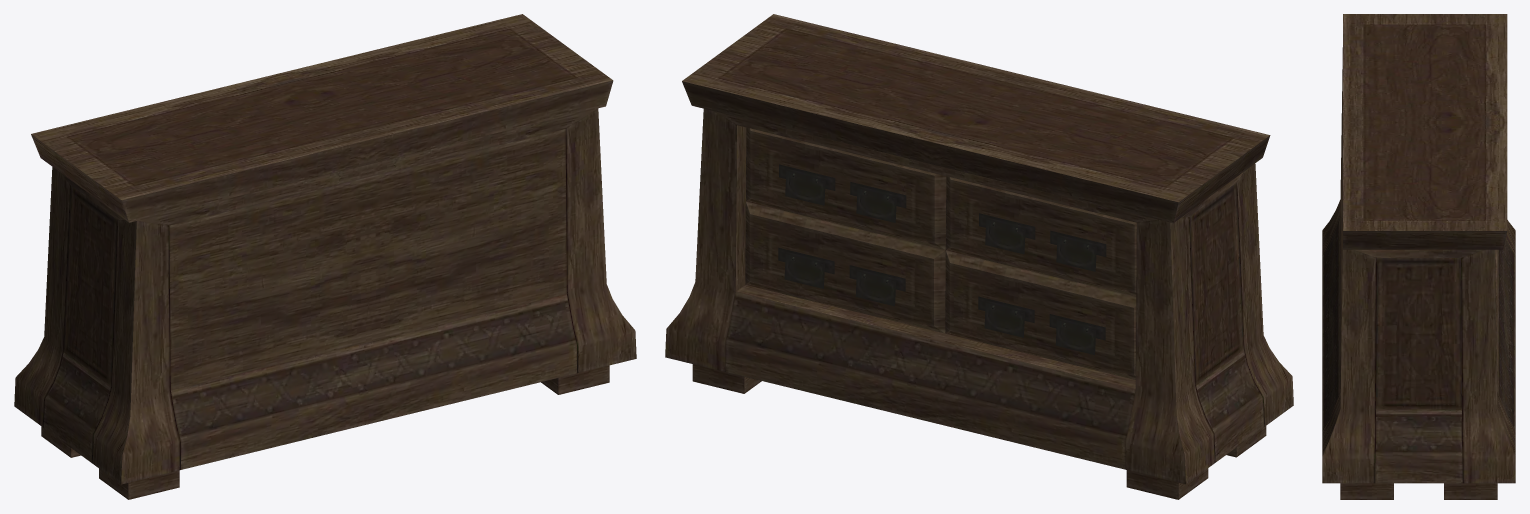
The model's file is eso_gu2_woodfurniture14-transformed.glb.
3 views of the same model, side by side, from view 1: azimuth 30°, elevation 25°; view 2: azimuth 150°, elevation 25°; view 3: azimuth 270°, elevation 25° (orthographic). The views are drawn at different scales.
Visible parts, largest first — view 1: default; view 2: default; view 3: default.
Part boxes in pixels (x1=…): default: x1=14, y1=14, x2=636, y2=499; default: x1=665, y1=14, x2=1293, y2=499; default: x1=1322, y1=14, x2=1515, y2=499.
Size of the model in its own units: 2.36 by 1.31 by 0.8461.
1 material, 1 textured.
